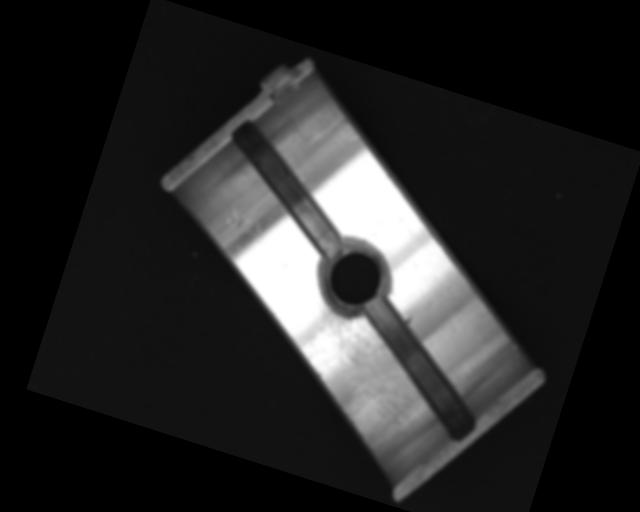bruise: (224, 206, 248, 231), (401, 312, 414, 327)
gap: (335, 293, 503, 443), (207, 118, 366, 259)
hole: (307, 229, 401, 323)
scratch: (279, 291, 444, 455)
